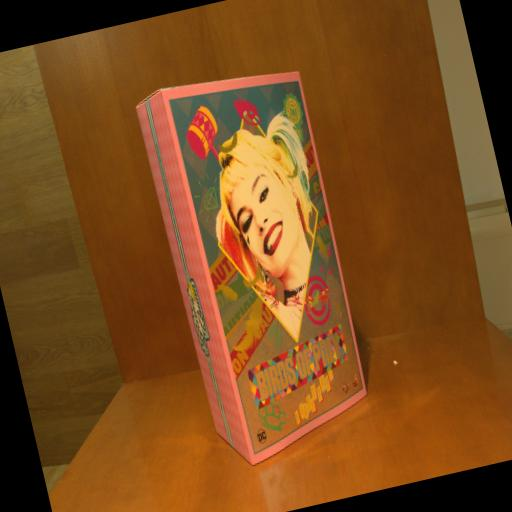Harley: (130, 54, 384, 474)
